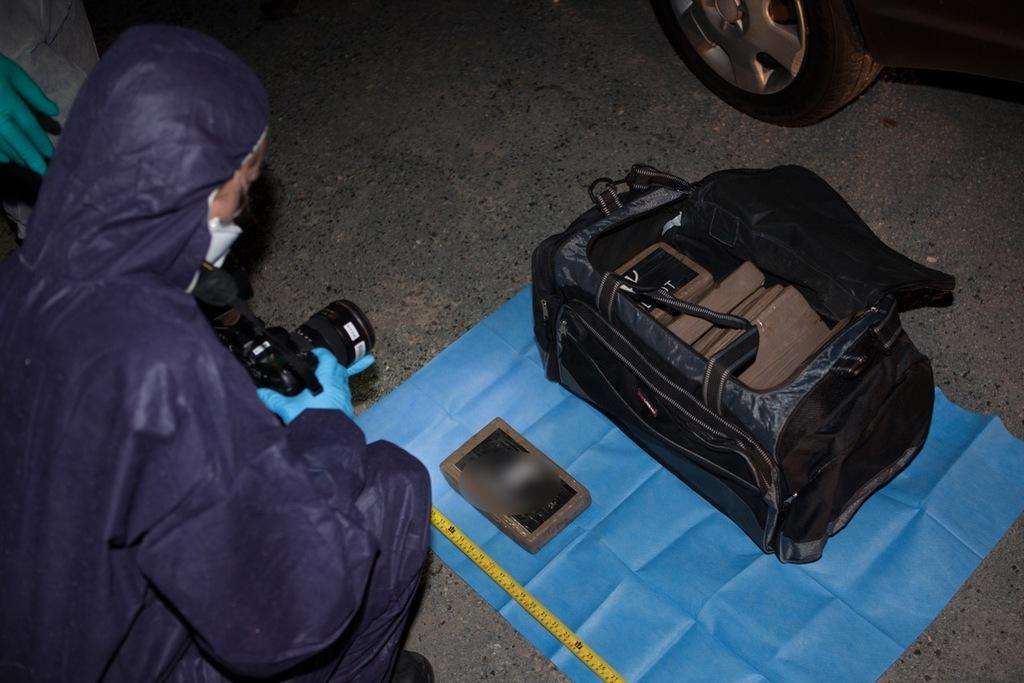Luggage-and-bags: (510, 161, 957, 590)
